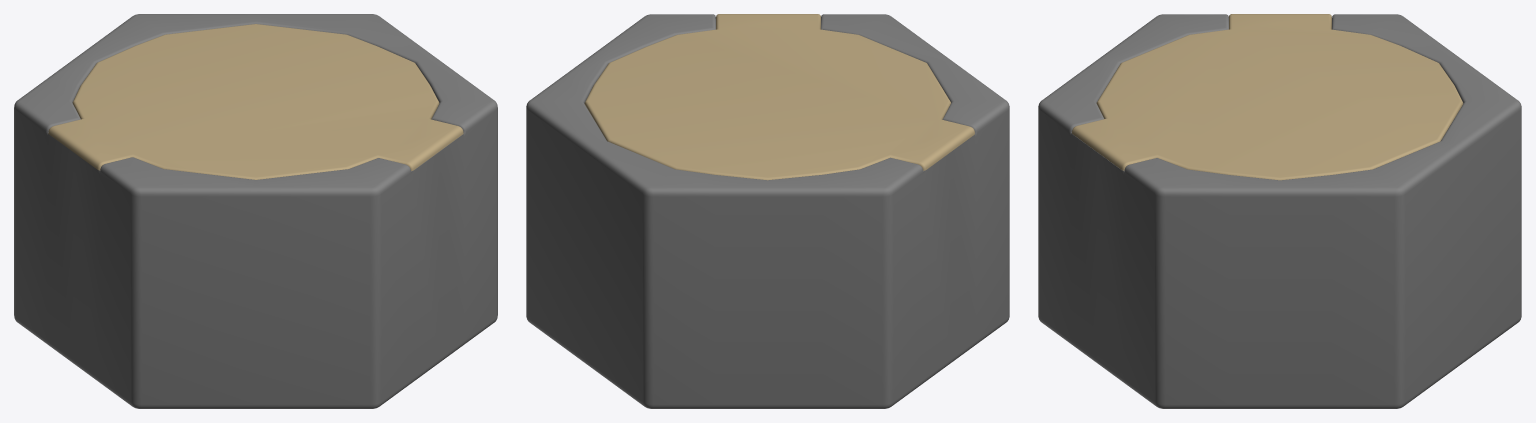
Rendered from Room2.fbx.
The picture shows the model from 3 angles, left to right: view 1: azimuth 30°, elevation 25°; view 2: azimuth 150°, elevation 25°; view 3: azimuth 270°, elevation 25°; orthographic projection.
Visible parts, largest first — view 1: Cylinder003; view 2: Cylinder003; view 3: Cylinder003.
Boxes of the visible parts, x1,y1,x2,y2 form: Cylinder003: (14, 14, 497, 408); Cylinder003: (526, 14, 1009, 408); Cylinder003: (1038, 14, 1521, 408).
Size of the model in its own units: 173 by 100 by 198.
